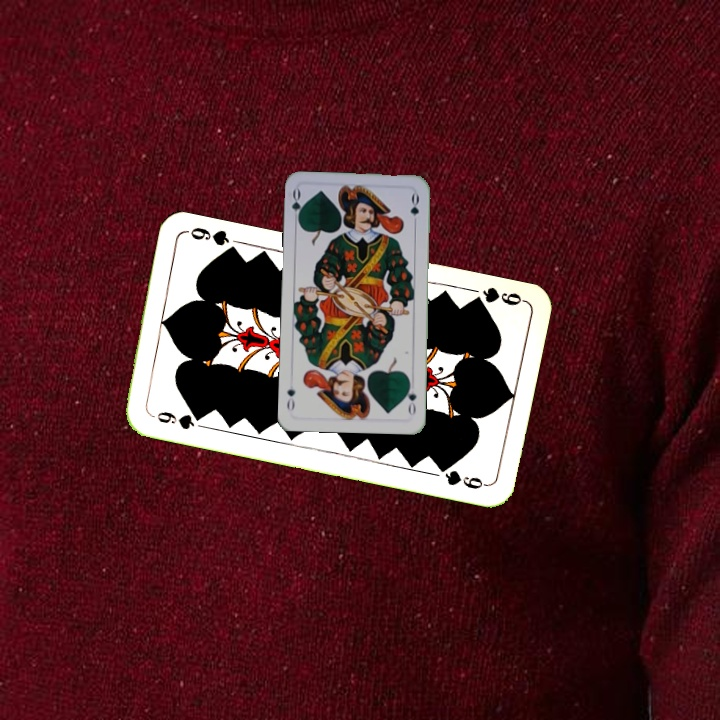G9: (466, 283, 527, 308), (153, 407, 206, 432)
GO: (288, 186, 306, 226), (402, 378, 419, 418)
